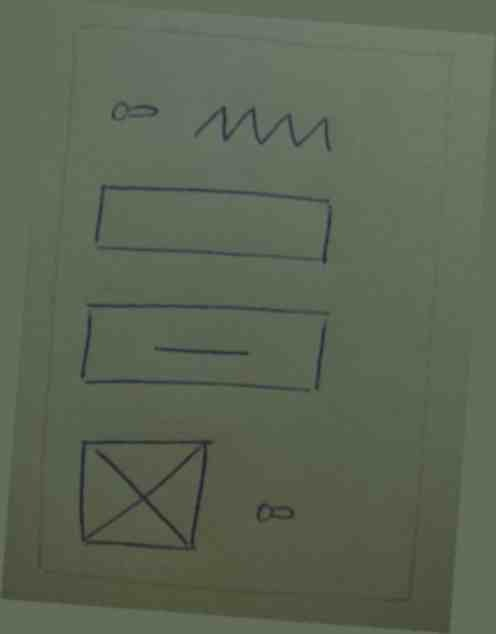button: (63, 283, 349, 408)
image: (59, 423, 224, 568)
switch: (101, 85, 166, 132), (246, 487, 305, 532)
text: (184, 88, 345, 163)
text_input: (84, 172, 346, 274)
